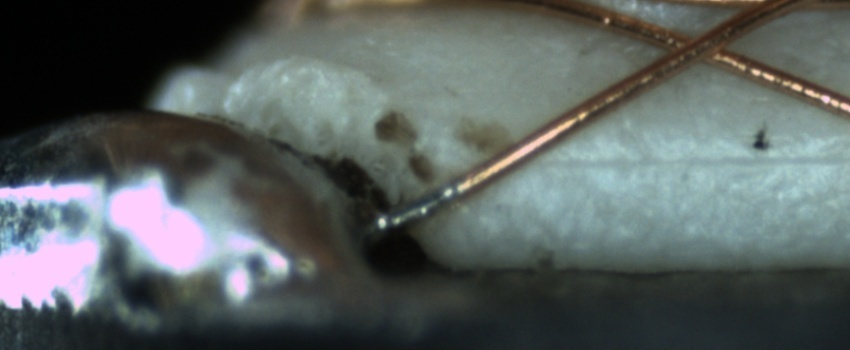CL: (649, 16, 749, 74)
DL: (529, 135, 849, 190)
TS: (377, 183, 464, 232)
